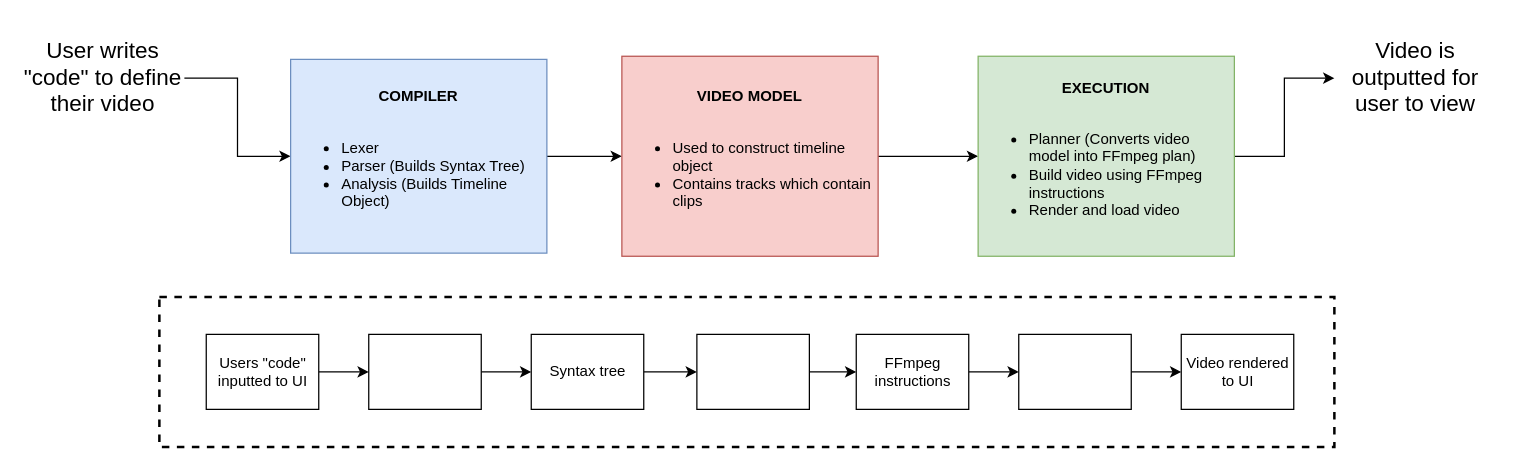
Image size: 1518x469. Some labels were removed from this diagram. The centre of each missing label's shape, as x and y in pixels:
"Raw text" goes at [424,371].
"Timeline object" goes at [752,371].
"Video built" goes at [1074,371].
